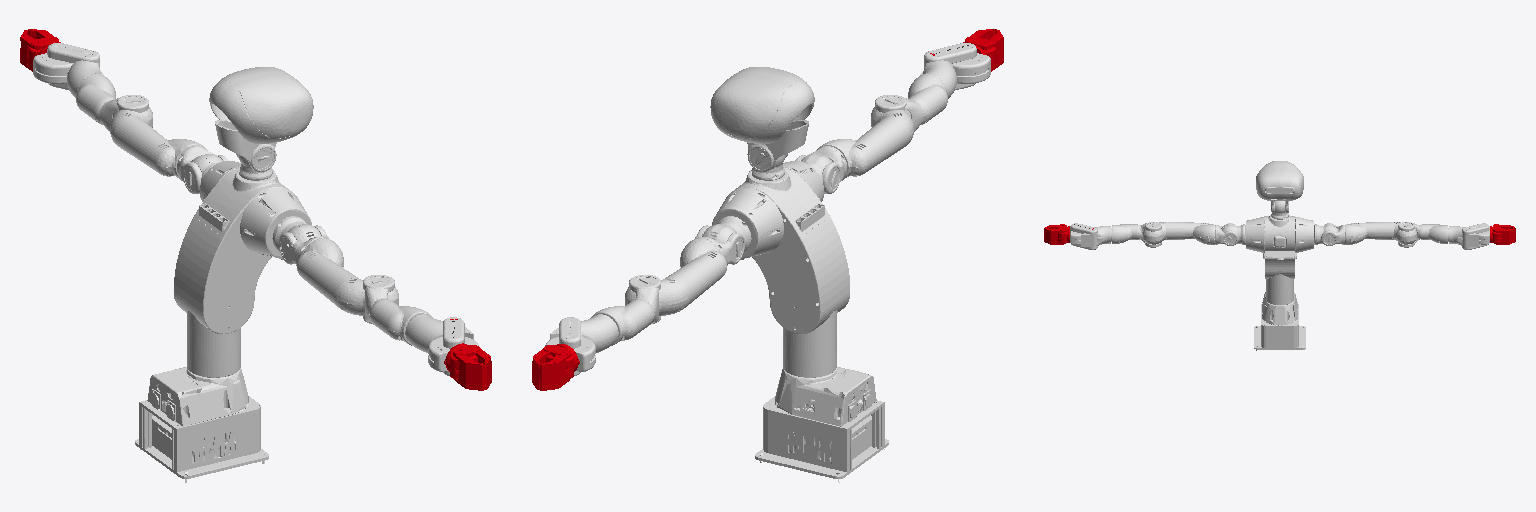
--- Render facts (derived) ---
The picture shows the robot from 3 angles, left to right: view 1: azimuth 30°, elevation 25°; view 2: azimuth 150°, elevation 25°; view 3: azimuth 270°, elevation 25°; orthographic projection.
Robot: sciurus17 — 27 links, 26 joints (21 revolute, 5 fixed); root link world; default pose: every joint at zero.
Links seen in each view (by area): view 1: body_link, base_link, neck_pitch_link, r_link3, l_link3, r_link4, l_link4, r_link5, l_link5, l_link2, l_link6, r_handB_link (+4 smaller); view 2: body_link, base_link, neck_pitch_link, l_link3, r_link3, l_link4, r_link4, l_link5, r_link5, r_link2, r_link6, l_link1 (+4 smaller); view 3: body_link, base_link, neck_pitch_link, r_link3, l_link3, r_link5, l_link5, r_link4, l_link4.
Link boxes in pixels (x1,y1,x2,y2): body_link: [174, 161, 311, 377]; base_link: [135, 367, 268, 482]; neck_pitch_link: [209, 67, 313, 171]; r_link3: [296, 238, 398, 315]; l_link3: [110, 107, 206, 180]; r_link4: [363, 275, 432, 345]; l_link4: [76, 73, 148, 131]; r_link5: [405, 314, 473, 375]; l_link5: [47, 43, 103, 97]; l_link2: [177, 146, 228, 193]; l_link6: [33, 53, 71, 83]; r_handB_link: [453, 353, 484, 390]; body_link: [712, 161, 849, 377]; base_link: [755, 367, 888, 482]; neck_pitch_link: [710, 67, 814, 171]; l_link3: [625, 238, 727, 315]; r_link3: [817, 107, 913, 180]; l_link4: [591, 275, 660, 345]; r_link4: [875, 73, 947, 131]; l_link5: [550, 314, 618, 375]; r_link5: [920, 43, 976, 98]; r_link2: [795, 146, 846, 193]; r_link6: [951, 53, 990, 83]; l_link1: [702, 216, 751, 251]; body_link: [1246, 215, 1313, 304]; base_link: [1254, 292, 1305, 350]; neck_pitch_link: [1256, 161, 1303, 212]; r_link3: [1143, 222, 1214, 244]; l_link3: [1345, 222, 1416, 244]; r_link5: [1071, 223, 1111, 249]; l_link5: [1448, 223, 1488, 249]; r_link4: [1112, 222, 1161, 247]; l_link4: [1398, 222, 1447, 247].
Bounding box of the posed robot: 0.2736 × 1.53 × 0.6763 m (x, y, z).
26 mesh visuals loaded from 23 distinct referenced files (23 binary STL).

robot.urdf — sciurus17:
<?xml version="1.0" ?>
<!-- =================================================================================== -->
<!-- |    This document was autogenerated by xacro from sciurus17.urdf.xacro           | -->
<!-- |    EDITING THIS FILE BY HAND IS NOT RECOMMENDED                                 | -->
<!-- =================================================================================== -->
<robot name="sciurus17">
  <material name="white">
    <color rgba="0.9 0.9 0.9 1.0"/>
  </material>
  <material name="red">
    <color rgba="0.8984375 0.0 0.0703125 1"/>
  </material>
  <!-- Used for fixing robot 'base_link'  to Gazebo 'world' -->
  <link name="world"/>
  <joint name="base_link_to_world_joint" type="fixed">
    <parent link="world"/>
    <child link="base_link"/>
  </joint>
  <link name="base_link">
    <visual>
      <geometry>
        <mesh filename="meshes/Base_reduced.stl" scale="1.0 1.0 1.0"/>
      </geometry>
      <material name="white"/>
    </visual>
    <collision>
      <origin rpy="0 0 0" xyz="0.0 0.0 0.0"/>
      <geometry>
        <mesh filename="meshes/Base_reduced.stl" scale="1.0 1.0 1.0"/>
      </geometry>
    </collision>
    <inertial>
      <origin rpy="0 0 0" xyz="-24.012e-03 0.139e-03 59.566e-03"/>
      <inertia ixx="6398092.663e-09" ixy="-6808.969e-09" ixz="-331509.04e-09" iyy="7611664.357e-09" iyz="2026.354e-09" izz="6331936.461e-09"/>
      <mass value="1722.937e-03"/>
    </inertial>
  </link>
  <joint name="waist_yaw_joint" type="revolute">
    <parent link="base_link"/>
    <child link="body_link"/>
    <origin rpy="0 0 0" xyz="0.0 0.0 0.1315"/>
    <limit effort="4.0" lower="-1.9198621771937625" upper="1.9198621771937625" velocity="5.969211435"/>
    <axis xyz="0 0 1"/>
    <dynamics damping="1.0e-6" friction="0.8"/>
  </joint>
  <link name="body_link">
    <visual>
      <geometry>
        <mesh filename="meshes/Body_reduced.stl" scale="1.0 1.0 1.0"/>
      </geometry>
      <material name="white"/>
    </visual>
    <collision>
      <origin rpy="0 0 0" xyz="0.0 0.0 0.0"/>
      <geometry>
        <mesh filename="meshes/Body_reduced.stl" scale="1.0 1.0 1.0"/>
      </geometry>
    </collision>
    <inertial>
      <origin rpy="0 0 0" xyz="57.11e-03 0.372e-03 238.229e-03"/>
      <inertia ixx="15601031.58e-09" ixy="-15890.903e-09" ixz="-3805596.494e-09" iyy="13969734.5e-09" iyz="-20695.221e-09" izz="8327993.097e-09"/>
      <mass value="1482.929e-03"/>
    </inertial>
  </link>
  <joint name="chest_camera_joint" type="fixed">
    <parent link="body_link"/>
    <child link="chest_camera_link"/>
    <origin rpy="-2.7925268032 0 -1.5707963268" xyz="0.114576 0.0 0.217659"/>
  </joint>
  <link name="chest_camera_link">
    <visual>
      <origin rpy="0 0 0" xyz="0 0 0"/>
      <geometry>
        <cylinder length="0.002" radius="0.003"/>
      </geometry>
      <material name="white"/>
    </visual>
    <collision>
      <origin rpy="0 0 0" xyz="0.0 0.0 0.0"/>
      <geometry>
        <cylinder length="0.002" radius="0.003"/>
      </geometry>
    </collision>
  </link>
  <gazebo reference="base_link">
    <material>Gazebo/White</material>
  </gazebo>
  <gazebo reference="body_link">
    <material>Gazebo/White</material>
  </gazebo>
  <gazebo reference="chest_camera_link">
    <material>Gazebo/Black</material>
  </gazebo>
  <joint name="neck_yaw_joint" type="revolute">
    <parent link="body_link"/>
    <child link="neck_yaw_link"/>
    <origin rpy="0 0 0" xyz="0.08083 0.0 0.3395"/>
    <limit effort="4.0" lower="-2.8797932657906435" upper="2.8797932657906435" velocity="5.969211435"/>
    <axis xyz="0 0 1"/>
    <dynamics damping="1.0e-6" friction="0.8"/>
  </joint>
  <link name="neck_yaw_link">
    <visual>
      <geometry>
        <mesh filename="meshes/Neck1_reduced.stl" scale="1.0 1.0 1.0"/>
      </geometry>
      <material name="white"/>
    </visual>
    <collision>
      <geometry>
        <mesh filename="meshes/Neck1_reduced.stl" scale="1.0 1.0 1.0"/>
      </geometry>
    </collision>
    <inertial>
      <origin rpy="0 0 0" xyz="-0.022e-03 0.029e-03 40.86e-03"/>
      <inertia ixx="63143.268e-09" ixy="-0.078e-09" ixz="-126.072e-09" iyy="66522.419e-09" iyz="187.375e-09" izz="32744.236e-09"/>
      <mass value="168.0e-03"/>
    </inertial>
  </link>
  <joint name="neck_pitch_joint" type="revolute">
    <parent link="neck_yaw_link"/>
    <child link="neck_pitch_link"/>
    <origin rpy="0 0 0" xyz="0.0 0.0 0.054"/>
    <limit effort="4.0" lower="-1.5707963267948966" upper="0.9599310885968813" velocity="5.969211435"/>
    <axis xyz="0 -1 0"/>
    <dynamics damping="1.0e-6" friction="0.8"/>
  </joint>
  <link name="neck_pitch_link">
    <visual>
      <origin rpy="1.5708 0 0" xyz="0.0 0.0 0.0"/>
      <geometry>
        <mesh filename="meshes/Neck2_reduced.stl" scale="1.0 1.0 1.0"/>
      </geometry>
      <material name="white"/>
    </visual>
    <collision>
      <origin rpy="1.5708 0 0" xyz="0.0 0.0 0.0"/>
      <geometry>
        <mesh filename="meshes/Neck2_reduced.stl" scale="1.0 1.0 1.0"/>
      </geometry>
    </collision>
    <inertial>
      <origin rpy="1.5708 0 0" xyz="19.979e-03 -0.151e-03 78.687e-03"/>
      <inertia ixx="964350.46e-09" ixy="-56112.026e-09" ixz="-731.103e-09" iyy="1027677.585e-09" iyz="1684.659e-09" izz="1065891.198e-09"/>
      <mass value="312.172e-03"/>
    </inertial>
  </link>
  <joint name="head_camera_joint" type="fixed">
    <parent link="neck_pitch_link"/>
    <child link="camera_link"/>
    <origin rpy="0 0 0" xyz="0.081785 0.020 0.091"/>
  </joint>
  <link name="camera_link">
    <visual>
      <origin rpy="0 0 0" xyz="0 0 0"/>
      <geometry>
        <cylinder length="0.002" radius="0.003"/>
      </geometry>
      <material name="white"/>
    </visual>
    <collision>
      <origin rpy="0 0 0" xyz="0.0 0.0 0.0"/>
      <geometry>
        <cylinder length="0.002" radius="0.003"/>
      </geometry>
    </collision>
  </link>
  <gazebo reference="neck_yaw_link">
    <material>Gazebo/White</material>
  </gazebo>
  <gazebo reference="neck_pitch_link">
    <material>Gazebo/White</material>
  </gazebo>
  <gazebo reference="camera_link">
    <material>Gazebo/Black</material>
  </gazebo>
  <joint name="r_arm_joint1" type="revolute">
    <parent link="body_link"/>
    <child link="r_link1"/>
    <origin rpy="0 0 0" xyz="0.08083 -0.0965 0.2885"/>
    <limit effort="4.0" lower="-1.5707963267948966" upper="1.5707963267948966" velocity="5.969211435"/>
    <axis xyz="0 -1 0"/>
    <dynamics damping="1.0e-6" friction="0.8"/>
  </joint>
  <link name="r_link1">
    <visual>
      <origin rpy="1.5708 0 0" xyz="0.0 0.0 0.0"/>
      <geometry>
        <mesh filename="meshes/R_Link1_reduced.stl" scale="1.0 1.0 1.0"/>
      </geometry>
      <material name="white"/>
    </visual>
    <collision>
      <origin rpy="1.5708 0 0" xyz="0.0 0.0 0.0"/>
      <geometry>
        <mesh filename="meshes/R_Link1_reduced.stl" scale="1.0 1.0 1.0"/>
      </geometry>
    </collision>
    <inertial>
      <origin rpy="1.5708 0 0" xyz="-0.656e-03 -46.367e-03 -0.264e-03"/>
      <inertia ixx="176217.476e-09" ixy="-5.425e-09" ixz="586.979e-09" iyy="179207.793e-09" iyz="-166.297e-09" izz="87950.071e-09"/>
      <mass value="258.0e-03"/>
    </inertial>
  </link>
  <joint name="r_arm_joint2" type="revolute">
    <parent link="r_link1"/>
    <child link="r_link2"/>
    <origin rpy="0 0 0" xyz="0.0 -0.064 0.0"/>
    <limit effort="4.0" lower="-1.5707963267948966" upper="0.0" velocity="5.969211435"/>
    <axis xyz="-1 0 0"/>
    <dynamics damping="1.0e-6" friction="0.8"/>
  </joint>
  <link name="r_link2">
    <visual>
      <origin rpy="0 1.5708 0" xyz="0.0 0.0 0.0"/>
      <geometry>
        <mesh filename="meshes/R_Link2_reduced.stl" scale="1.0 1.0 1.0"/>
      </geometry>
      <material name="white"/>
    </visual>
    <collision>
      <origin rpy="0 1.5708 0" xyz="0.0 0.0 0.0"/>
      <geometry>
        <mesh filename="meshes/R_Link2_reduced.stl" scale="1.0 1.0 1.0"/>
      </geometry>
    </collision>
    <inertial>
      <origin rpy="0 1.5708 0" xyz="-0.185e-03 -33.96e-03 -0.033e-03"/>
      <inertia ixx="172046.031e-09" ixy="-119.176e-09" ixz="-535.109e-09" iyy="98834.156e-09" iyz="580.743e-09" izz="136915.218e-09"/>
      <mass value="134.0e-03"/>
    </inertial>
  </link>
  <joint name="r_arm_joint3" type="revolute">
    <parent link="r_link2"/>
    <child link="r_link3"/>
    <origin rpy="0 0 0" xyz="0.0 -0.065 0.0"/>
    <limit effort="4.0" lower="-1.5707963267948966" upper="1.5707963267948966" velocity="5.969211435"/>
    <axis xyz="0 -1 0"/>
    <dynamics damping="1.0e-6" friction="0.8"/>
  </joint>
  <link name="r_link3">
    <visual>
      <origin rpy="1.5708 0 0" xyz="0.0 0.0 0.0"/>
      <geometry>
        <mesh filename="meshes/L_Link3_reduced.stl" scale="1.0 -1.0 1.0"/>
      </geometry>
      <material name="white"/>
    </visual>
    <collision>
      <origin rpy="1.5708 0 0" xyz="0.0 0.0 0.0"/>
      <geometry>
        <mesh filename="meshes/L_Link3_reduced.stl" scale="1.0 -1.0 1.0"/>
      </geometry>
    </collision>
    <inertial>
      <origin rpy="1.5708 0 0" xyz="-13.791e-03 -113.391e-03 0.245e-03"/>
      <inertia ixx="2336253.636e-09" ixy="-1190.372e-09" ixz="-75998.279e-09" iyy="2414711.907e-09" iyz="-8024.912e-09" izz="236305.543e-09"/>
      <mass value="443.0e-03"/>
    </inertial>
  </link>
  <joint name="r_arm_joint4" type="revolute">
    <parent link="r_link3"/>
    <child link="r_link4"/>
    <origin rpy="0 0 0" xyz="0.0 -0.185 0.0"/>
    <limit effort="4.0" lower="0.0" upper="2.7401669256310974" velocity="5.969211435"/>
    <axis xyz="0 0 1"/>
    <dynamics damping="1.0e-6" friction="0.8"/>
  </joint>
  <link name="r_link4">
    <visual>
      <origin rpy="0 0 0" xyz="0.0 0.0 0.0"/>
      <geometry>
        <mesh filename="meshes/R_Link4_reduced.stl" scale="1.0 1.0 1.0"/>
      </geometry>
      <material name="white"/>
    </visual>
    <collision>
      <origin rpy="0 0 0" xyz="0.0 0.0 0.0"/>
      <geometry>
        <mesh filename="meshes/R_Link4_reduced.stl" scale="1.0 1.0 1.0"/>
      </geometry>
    </collision>
    <inertial>
      <origin rpy="0 0 0" xyz="-8.881e-03 -75.749e-03 0.038e-03"/>
      <inertia ixx="603280.74e-09" ixy="-6670.94e-09" ixz="250.846e-09" iyy="143154.3e-09" iyz="-2309.247e-09" izz="598152.333e-09"/>
      <mass value="238.0e-03"/>
    </inertial>
  </link>
  <joint name="r_arm_joint5" type="revolute">
    <parent link="r_link4"/>
    <child link="r_link5"/>
    <origin rpy="0 0 0" xyz="0.0 -0.121 0.0"/>
    <limit effort="4.0" lower="-1.5707963267948966" upper="1.5707963267948966" velocity="5.969211435"/>
    <axis xyz="0 -1 0"/>
    <dynamics damping="1.0e-6" friction="0.8"/>
  </joint>
  <link name="r_link5">
    <visual>
      <origin rpy="1.5708 0 0" xyz="0.0 0.0 0.0"/>
      <geometry>
        <mesh filename="meshes/R_Link5_reduced.stl" scale="1.0 1.0 1.0"/>
      </geometry>
      <material name="white"/>
    </visual>
    <visual>
      <origin rpy="0 0 -2.0944" xyz="0.032 -0.074 0.0345"/>
      <geometry>
        <mesh filename="meshes/Logo_Rabbit_reduced.stl" scale="1.0 1.0 1.0"/>
      </geometry>
      <material name="red_color">
        <color rgba="0.8984375 0.0 0.0703125 1"/>
      </material>
    </visual>
    <visual>
      <origin rpy="0 0 -2.0944" xyz="0.013 -0.107 0.0345"/>
      <geometry>
        <mesh filename="meshes/Logo_Corp_reduced.stl" scale="1.0 1.0 1.0"/>
      </geometry>
      <material name="black_color">
        <color rgba="0.2 0.2 0.2 1"/>
      </material>
    </visual>
    <collision>
      <origin rpy="1.5708 0 0" xyz="0.0 0.0 0.0"/>
      <geometry>
        <mesh filename="meshes/R_Link5_reduced.stl" scale="1.0 1.0 1.0"/>
      </geometry>
    </collision>
    <inertial>
      <origin rpy="1.5708 0 0" xyz="13.531e-03 -70.369e-03 -0.304e-03"/>
      <inertia ixx="294726.731e-09" ixy="-4809.196e-09" ixz="-21387.985e-09" iyy="290568.087e-09" iyz="13192.269e-09" izz="125378.656e-09"/>
      <mass value="224.0e-03"/>
    </inertial>
  </link>
  <joint name="r_arm_armarker" type="fixed">
    <parent link="r_link5"/>
    <child link="r_link5_armarker"/>
    <origin rpy="0 0 0" xyz="0.0467 -0.093 0.0"/>
  </joint>
  <link name="r_link5_armarker">
    <visual>
      <origin rpy="0 0 0" xyz="0.0 0.0 0.0"/>
      <geometry>
        <cylinder length="0.001" radius="0.001"/>
      </geometry>
      <material name="white"/>
    </visual>
    <collision>
      <origin rpy="0 0 0" xyz="0.0 0.0 0.0"/>
      <geometry>
        <cylinder length="0.001" radius="0.001"/>
      </geometry>
    </collision>
  </link>
  <joint name="r_arm_joint6" type="revolute">
    <parent link="r_link5"/>
    <child link="r_link6"/>
    <origin rpy="0 0 0" xyz="0.0 -0.129 0.0"/>
    <limit effort="4.0" lower="-2.0943951023931953" upper="1.0471975511965976" velocity="5.969211435"/>
    <axis xyz="0 0 1"/>
    <dynamics damping="1.0e-6" friction="0.8"/>
  </joint>
  <link name="r_link6">
    <visual>
      <origin rpy="0 0 0" xyz="0.0 0.0 0.0"/>
      <geometry>
        <mesh filename="meshes/R_Link6_reduced.stl" scale="1.0 1.0 1.0"/>
      </geometry>
      <material name="white"/>
    </visual>
    <collision>
      <origin rpy="0 0 0" xyz="0.0 0.0 0.0"/>
      <geometry>
        <mesh filename="meshes/R_Link6_reduced.stl" scale="1.0 1.0 1.0"/>
      </geometry>
    </collision>
    <inertial>
      <origin rpy="0 0 0" xyz="-6.156e-03 3.583e-03 0.755e-03"/>
      <inertia ixx="39499.661e-09" ixy="-2921.88e-09" ixz="-612.042e-09" iyy="60684.342e-09" iyz="357.397e-09" izz="73112.015e-09"/>
      <mass value="140.0e-03"/>
    </inertial>
  </link>
  <joint name="r_arm_joint7" type="revolute">
    <parent link="r_link6"/>
    <child link="r_link7"/>
    <origin rpy="0 0 0" xyz="0.0 -0.0191 0.0"/>
    <limit effort="4.0" lower="-2.9670597283903604" upper="2.9670597283903604" velocity="5.969211435"/>
    <axis xyz="0 -1 0"/>
    <dynamics damping="1.0e-6" friction="0.8"/>
  </joint>
  <gazebo reference="r_link1">
    <material>Gazebo/White</material>
  </gazebo>
  <gazebo reference="r_link2">
    <material>Gazebo/White</material>
  </gazebo>
  <gazebo reference="r_link3">
    <material>Gazebo/White</material>
  </gazebo>
  <gazebo reference="r_link4">
    <material>Gazebo/White</material>
  </gazebo>
  <gazebo reference="r_link5">
    <material>Gazebo/White</material>
  </gazebo>
  <gazebo reference="r_link6">
    <material>Gazebo/White</material>
  </gazebo>
  <link name="r_link7">
    <visual>
      <origin rpy="1.5708 0 0" xyz="0.0 0.0 0.0"/>
      <geometry>
        <mesh filename="meshes/R_Link7_reduced.stl" scale="1.0 1.0 1.0"/>
      </geometry>
      <material name="red"/>
    </visual>
    <collision>
      <origin rpy="1.5708 0 0" xyz="0.0 0.0 0.0"/>
      <geometry>
        <mesh filename="meshes/R_Link7_reduced.stl" scale="1.0 1.0 1.0"/>
      </geometry>
    </collision>
    <inertial>
      <origin rpy="1.5708 0 0" xyz="-0.118e-03 -20.65e-03 1.006e-03"/>
      <inertia ixx="32600.928e-09" ixy="-69.84e-09" ixz="-254.224e-09" iyy="41969.484e-09" iyz="-409.16e-09" izz="43040.018e-09"/>
      <mass value="121.0e-03"/>
    </inertial>
  </link>
  <joint name="r_hand_joint" type="revolute">
    <parent link="r_link7"/>
    <child link="r_handA_link"/>
    <origin rpy="0 0 0" xyz="0.012 -0.024 0.0"/>
    <limit effort="4.0" lower="0.0" upper="1.5009831567151235" velocity="5.969211435"/>
    <axis xyz="0 0 1"/>
    <dynamics damping="1.0e-6" friction="0.8"/>
  </joint>
  <link name="r_handA_link">
    <visual>
      <!--origin rpy="3.14159 0 0" xyz="0.0 0.0 0.0"/-->
      <origin rpy="0 0 0" xyz="0.0 0.0 0.0"/>
      <geometry>
        <mesh filename="meshes/R_HandA_reduced.stl" scale="1.0 1.0 1.0"/>
      </geometry>
      <material name="red"/>
    </visual>
    <collision>
      <origin rpy="0 0 0" xyz="0.0 0.0 0.0"/>
      <geometry>
        <mesh filename="meshes/R_HandA_reduced.stl" scale="1.0 1.0 1.0"/>
      </geometry>
    </collision>
    <inertial>
      <origin rpy="0 0 0" xyz="2.649e-03 -26.849e-03 3.757e-03"/>
      <inertia ixx="10192.75e-09" ixy="-197.895e-09" ixz="98.609e-09" iyy="5023.728e-09" iyz="-554.407e-09" izz="6322.202e-09"/>
      <mass value="15.8e-03"/>
    </inertial>
  </link>
  <joint name="r_hand_mimic_joint" type="revolute">
    <parent link="r_link7"/>
    <child link="r_handB_link"/>
    <origin rpy="0 0 0" xyz="-0.012 -0.024 0.0"/>
    <limit effort="4.0" lower="0.0" upper="1.5009831567151235" velocity="5.969211435"/>
    <axis xyz="0 0 -1"/>
    <mimic joint="r_hand_joint" multiplier="1" offset="0"/>
    <dynamics damping="1.0e-6" friction="0.8"/>
  </joint>
  <link name="r_handB_link">
    <visual>
      <!-- origin rpy="3.14159 0 0" xyz="0.0 0.0 0.0"/ -->
      <origin rpy="0 0 0" xyz="0.0 0.0 0.0"/>
      <geometry>
        <mesh filename="meshes/R_HandB_reduced.stl" scale="1.0 1.0 1.0"/>
      </geometry>
      <material name="red"/>
    </visual>
    <collision>
      <origin rpy="0 0 0" xyz="0.0 0.0 0.0"/>
      <geometry>
        <mesh filename="meshes/R_HandB_reduced.stl" scale="1.0 1.0 1.0"/>
      </geometry>
    </collision>
    <inertial>
      <origin rpy="0 0 0" xyz="-2.707e-03 -30.901e-03 2.845e-03"/>
      <inertia ixx="7483.7e-09" ixy="361.283e-09" ixz="-63.385e-09" iyy="4088.581e-09" iyz="-228.226e-09" izz="4372.991e-09"/>
      <mass value="13.9e-03"/>
    </inertial>
  </link>
  <gazebo reference="r_link7">
    <material>Gazebo/Red</material>
  </gazebo>
  <gazebo reference="r_handA_link">
    <material>Gazebo/Red</material>
  </gazebo>
  <gazebo reference="r_handB_link">
    <material>Gazebo/Red</material>
  </gazebo>
  <joint name="l_arm_joint1" type="revolute">
    <parent link="body_link"/>
    <child link="l_link1"/>
    <origin rpy="0 0 0" xyz="0.08083 0.0965 0.2885"/>
    <limit effort="4.0" lower="-1.5707963267948966" upper="1.5707963267948966" velocity="5.969211435"/>
    <axis xyz="0 1 0"/>
    <dynamics damping="1.0e-6" friction="0.8"/>
  </joint>
  <link name="l_link1">
    <visual>
      <origin rpy="-1.5708 0 0" xyz="0.0 0.0 0.0"/>
      <geometry>
        <mesh filename="meshes/L_Link1_reduced.stl" scale="1.0 1.0 1.0"/>
      </geometry>
      <material name="white"/>
    </visual>
    <collision>
      <origin rpy="-1.5708 0 0" xyz="0.0 0.0 0.0"/>
      <geometry>
        <mesh filename="meshes/L_Link1_reduced.stl" scale="1.0 1.0 1.0"/>
      </geometry>
    </collision>
    <inertial>
      <origin rpy="-1.5708 0 0" xyz="-0.537e-03 46.27e-03 -0.27e-03"/>
      <inertia ixx="170007.992e-09" ixy="13.313e-09" ixz="454.301e-09" iyy="175079.881e-09" iyz="159.916e-09" izz="85282.27e-09"/>
      <mass value="258.0e-03"/>
    </inertial>
  </link>
  <joint name="l_arm_joint2" type="revolute">
    <parent link="l_link1"/>
    <child link="l_link2"/>
    <origin rpy="0 0 0" xyz="0.0 0.064 0.0"/>
    <limit effort="4.0" lower="0.0" upper="1.5707963267948966" velocity="5.969211435"/>
    <axis xyz="-1 0 0"/>
    <dynamics damping="1.0e-6" friction="0.8"/>
  </joint>
  <link name="l_link2">
    <visual>
      <origin rpy="0 -1.5708 0" xyz="0.0 0.0 0.0"/>
      <geometry>
        <mesh filename="meshes/L_Link2_reduced.stl" scale="-1.0 1.0 -1.0"/>
      </geometry>
      <material name="white"/>
    </visual>
    <collision>
      <origin rpy="0 -1.5708 0" xyz="0.0 0.0 0.0"/>
      <geometry>
        <mesh filename="meshes/L_Link2_reduced.stl" scale="-1.0 1.0 -1.0"/>
      </geometry>
    </collision>
    <inertial>
      <origin rpy="0 -1.5708 0" xyz="0.199e-03 33.946e-03 -0.07e-03"/>
      <inertia ixx="172421.741e-09" ixy="-98.964e-09" ixz="-266.684e-09" iyy="99076.413e-09" iyz="-418.743e-09" izz="137151.205e-09"/>
      <mass value="134.0e-03"/>
    </inertial>
  </link>
  <joint name="l_arm_joint3" type="revolute">
    <parent link="l_link2"/>
    <child link="l_link3"/>
    <origin rpy="0 0 0" xyz="0.0 0.065 0.0"/>
    <limit effort="4.0" lower="-1.5707963267948966" upper="1.5707963267948966" velocity="5.969211435"/>
    <axis xyz="0 1 0"/>
    <dynamics damping="1.0e-6" friction="0.8"/>
  </joint>
  <link name="l_link3">
    <visual>
      <origin rpy="-1.5708 0 0" xyz="0.0 0.0 0.0"/>
      <geometry>
        <mesh filename="meshes/L_Link3_reduced.stl" scale="1.0 1.0 1.0"/>
      </geometry>
      <material name="white"/>
    </visual>
    <collision>
      <origin rpy="-1.5708 0 0" xyz="0.0 0.0 0.0"/>
      <geometry>
        <mesh filename="meshes/L_Link3_reduced.stl" scale="1.0 1.0 1.0"/>
      </geometry>
    </collision>
    <inertial>
      <origin rpy="-1.5708 0 0" xyz="-13.943e-03 113.533e-03 0.241e-03"/>
      <inertia ixx="2343035.312e-09" ixy="1178.732e-09" ixz="-72414.462e-09" iyy="2422253.94e-09" iyz="8074.759e-09" izz="237122.927e-09"/>
      <mass value="443.0e-03"/>
    </inertial>
  </link>
  <joint name="l_arm_joint4" type="revolute">
    <parent link="l_link3"/>
    <child link="l_link4"/>
    <origin rpy="0 0 0" xyz="0.0 0.185 0.0"/>
    <limit effort="4.0" lower="-2.7401669256310974" upper="0.0" velocity="5.969211435"/>
    <axis xyz="0 0 1"/>
    <dynamics damping="1.0e-6" friction="0.8"/>
  </joint>
  <link name="l_link4">
    <visual>
      <origin rpy="0 0 0" xyz="0.0 0.0 0.0"/>
      <geometry>
        <mesh filename="meshes/L_Link4_reduced.stl" scale="1.0 1.0 1.0"/>
      </geometry>
      <material name="white"/>
    </visual>
    <collision>
      <origin rpy="0 0 0" xyz="0.0 0.0 0.0"/>
      <geometry>
        <mesh filename="meshes/L_Link4_reduced.stl" scale="1.0 1.0 1.0"/>
      </geometry>
    </collision>
    <inertial>
      <origin rpy="0 0 0" xyz="-8.926e-03 78.626e-03 -0.005e-03"/>
      <inertia ixx="533003.24e-09" ixy="972.381e-09" ixz="220.273e-09" iyy="130793.897e-09" iyz="1226.699e-09" izz="533022.145e-09"/>
      <mass value="238.0e-03"/>
    </inertial>
  </link>
  <joint name="l_arm_joint5" type="revolute">
    <parent link="l_link4"/>
    <child link="l_link5"/>
    <origin rpy="0 0 0" xyz="0.0 0.121 0.0"/>
    <limit effort="4.0" lower="-1.5707963267948966" upper="1.5707963267948966" velocity="5.969211435"/>
    <axis xyz="0 1 0"/>
    <dynamics damping="1.0e-6" friction="0.8"/>
  </joint>
  <link name="l_link5">
    <visual>
      <origin rpy="-1.5708 0 0" xyz="0.0 0.0 0.0"/>
      <geometry>
        <mesh filename="meshes/L_Link5_reduced.stl" scale="1.0 1.0 1.0"/>
      </geometry>
      <material name="white"/>
    </visual>
    <visual>
      <origin rpy="3.1415926 0 2.0944" xyz="0.032 0.074 -0.0346"/>
      <geometry>
        <mesh filename="meshes/Logo_Rabbit_reduced.stl" scale="1.0 1.0 1.0"/>
      </geometry>
      <material name="red_color">
        <color rgba="0.8984375 0.0 0.0703125 1"/>
      </material>
    </visual>
    <visual>
      <origin rpy="3.1415926 0 2.0944" xyz="0.013 0.107 -0.0346"/>
      <geometry>
        <mesh filename="meshes/Logo_Corp_reduced.stl" scale="1.0 1.0 1.0"/>
      </geometry>
      <material name="black_color">
        <color rgba="0.2 0.2 0.2 1"/>
      </material>
    </visual>
    <collision>
      <origin rpy="-1.5708 0 0" xyz="0.0 0.0 0.0"/>
      <geometry>
        <mesh filename="meshes/L_Link5_reduced.stl" scale="1.0 1.0 1.0"/>
      </geometry>
    </collision>
    <inertial>
      <origin rpy="-1.5708 0 0" xyz="13.732e-03 71.158e-03 -0.348e-03"/>
      <inertia ixx="286973.35e-09" ixy="4321.461e-09" ixz="-19101.45e-09" iyy="282370.572e-09" iyz="-13052.23e-09" izz="125680.836e-09"/>
      <mass value="224.0e-03"/>
    </inertial>
  </link>
  <joint name="l_arm_armarker" type="fixed">
    <parent link="l_link5"/>
    <child link="l_link5_armarker"/>
    <origin rpy="0 0 0" xyz="0.0467 0.093 0.0"/>
  </joint>
  <link name="l_link5_armarker">
    <visual>
      <origin rpy="0 0 0" xyz="0.0 0.0 0.0"/>
      <geometry>
        <cylinder length="0.001" radius="0.001"/>
      </geometry>
      <material name="white"/>
    </visual>
    <collision>
      <origin rpy="0 0 0" xyz="0.0 0.0 0.0"/>
      <geometry>
        <cylinder length="0.001" radius="0.001"/>
      </geometry>
    </collision>
  </link>
  <joint name="l_arm_joint6" type="revolute">
    <parent link="l_link5"/>
    <child link="l_link6"/>
    <origin rpy="0 0 0" xyz="0.0 0.129 0.0"/>
    <limit effort="4.0" lower="-1.0471975511965976" upper="2.0943951023931953" velocity="5.969211435"/>
    <axis xyz="0 0 1"/>
    <dynamics damping="1.0e-6" friction="0.8"/>
  </joint>
  <link name="l_link6">
    <visual>
      <origin rpy="0 0 0" xyz="0.0 0.0 0.0"/>
      <geometry>
        <mesh filename="meshes/L_Link6_reduced.stl" scale="1.0 1.0 1.0"/>
      </geometry>
      <material name="white"/>
    </visual>
    <collision>
      <origin rpy="0 0 0" xyz="0.0 0.0 0.0"/>
      <geometry>
        <mesh filename="meshes/L_Link6_reduced.stl" scale="1.0 1.0 1.0"/>
      </geometry>
    </collision>
    <inertial>
      <origin rpy="0 0 0" xyz="-6.173e-03 -3.627e-03 0.744e-03"/>
      <inertia ixx="39902.954e-09" ixy="3014.503e-09" ixz="-613.647e-09" iyy="61099.851e-09" iyz="-361.668e-09" izz="73723.447e-09"/>
      <mass value="140.0e-03"/>
    </inertial>
  </link>
  <joint name="l_arm_joint7" type="revolute">
    <parent link="l_link6"/>
    <child link="l_link7"/>
    <origin rpy="0 0 0" xyz="0.0 0.0191 0.0"/>
    <limit effort="4.0" lower="-2.9670597283903604" upper="2.9670597283903604" velocity="5.969211435"/>
    <axis xyz="0 1 0"/>
    <dynamics damping="1.0e-6" friction="0.8"/>
  </joint>
  <gazebo reference="l_link1">
    <material>Gazebo/White</material>
  </gazebo>
  <gazebo reference="l_link2">
    <material>Gazebo/White</material>
  </gazebo>
  <gazebo reference="l_link3">
    <material>Gazebo/White</material>
  </gazebo>
  <gazebo reference="l_link4">
    <material>Gazebo/White</material>
  </gazebo>
  <gazebo reference="l_link5">
    <material>Gazebo/White</material>
  </gazebo>
  <gazebo reference="l_link6">
    <material>Gazebo/White</material>
  </gazebo>
  <link name="l_link7">
    <visual>
      <origin rpy="1.5708 0 0" xyz="0.0 0.0 0.0"/>
      <geometry>
        <mesh filename="meshes/L_Link7_reduced.stl" scale="1.0 1.0 1.0"/>
      </geometry>
      <material name="red"/>
    </visual>
    <collision>
      <origin rpy="1.5708 0 0" xyz="0.0 0.0 0.0"/>
      <geometry>
        <mesh filename="meshes/L_Link7_reduced.stl" scale="1.0 1.0 1.0"/>
      </geometry>
    </collision>
    <inertial>
      <origin rpy="1.5708 0 0" xyz="-0.118e-03 20.65e-03 1.074e-03"/>
      <inertia ixx="32593.608e-09" ixy="-72.866e-09" ixz="254.224e-09" iyy="41969.484e-09" iyz="436.76e-09" izz="43032.698e-09"/>
      <mass value="121.0e-03"/>
    </inertial>
  </link>
  <joint name="l_hand_joint" type="revolute">
    <parent link="l_link7"/>
    <child link="l_handA_link"/>
    <origin rpy="0 0 0" xyz="0.012 0.024 0.0"/>
    <limit effort="4.0" lower="-1.5009831567151235" upper="0.0" velocity="5.969211435"/>
    <axis xyz="0 0 1"/>
    <dynamics damping="1.0e-6" friction="0.8"/>
  </joint>
  <link name="l_handA_link">
    <visual>
      <origin rpy="0 0 0" xyz="0.0 0.0 0.0"/>
      <geometry>
        <mesh filename="meshes/L_HandA_reduced.stl" scale="1.0 1.0 1.0"/>
      </geometry>
      <material name="red"/>
    </visual>
    <collision>
      <origin rpy="0 0 0" xyz="0.0 0.0 0.0"/>
      <geometry>
        <mesh filename="meshes/L_HandA_reduced.stl" scale="1.0 1.0 1.0"/>
      </geometry>
    </collision>
    <inertial>
      <origin rpy="0 0 0" xyz="2.649e-03 26.849e-03 3.757e-03"/>
      <inertia ixx="10192.695e-09" ixy="197.91e-09" ixz="98.601e-09" iyy="5023.727e-09" iyz="554.38e-09" izz="6322.142e-09"/>
      <mass value="15.8e-03"/>
    </inertial>
  </link>
  <joint name="l_hand_mimic_joint" type="revolute">
    <parent link="l_link7"/>
    <child link="l_handB_link"/>
    <origin rpy="0 0 0" xyz="-0.012 0.024 0.0"/>
    <limit effort="4.0" lower="-1.5009831567151235" upper="0.0" velocity="5.969211435"/>
    <axis xyz="0 0 -1"/>
    <mimic joint="l_hand_joint" multiplier="1" offset="0"/>
    <dynamics damping="1.0e-6" friction="0.8"/>
  </joint>
  <link name="l_handB_link">
    <visual>
      <origin rpy="0 0 0" xyz="0.0 0.0 0.0"/>
      <geometry>
        <mesh filename="meshes/L_HandB_reduced.stl" scale="1.0 1.0 1.0"/>
      </geometry>
      <material name="red"/>
    </visual>
    <collision>
      <origin rpy="0 0 0" xyz="0.0 0.0 0.0"/>
      <geometry>
        <mesh filename="meshes/L_HandB_reduced.stl" scale="1.0 1.0 1.0"/>
      </geometry>
    </collision>
    <inertial>
      <origin rpy="0 0 0" xyz="-3.008e-03 30.851e-03 2.845e-03"/>
      <inertia ixx="7483.736e-09" ixy="-361.268e-09" ixz="-63.393e-09" iyy="4088.583e-09" iyz="228.245e-09" izz="4373.032e-09"/>
      <mass value="13.9e-03"/>
    </inertial>
  </link>
  <gazebo reference="l_link7">
    <material>Gazebo/Red</material>
  </gazebo>
  <gazebo reference="l_handA_link">
    <material>Gazebo/Red</material>
  </gazebo>
  <gazebo reference="l_handB_link">
    <material>Gazebo/Red</material>
  </gazebo>
</robot>
